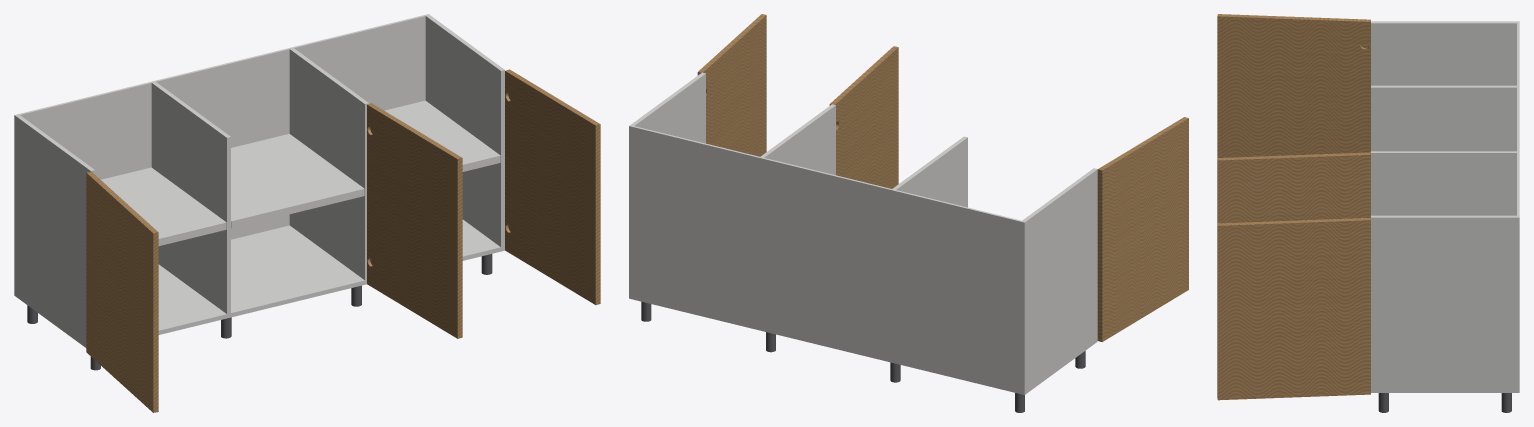
File: w1800_none_default_open.glb
3 views of the same model, side by side, from view 1: azimuth 30°, elevation 25°; view 2: azimuth 150°, elevation 25°; view 3: azimuth 270°, elevation 25° (orthographic). The views are drawn at different scales.
Visible parts, largest first — view 1: white, oak, leg; view 2: white, oak, leg; view 3: oak, white, leg.
Boxes of the visible parts, x1,y1,x2,y2 form: white: (14,14,504,347); oak: (86,69,600,412); leg: (27,254,492,370); white: (629,72,1097,394); oak: (697,14,1188,341); leg: (641,301,1085,412); oak: (1217,14,1370,400); white: (1371,21,1519,392); leg: (1378,393,1511,412).
Size of the model in its own units: 1.94 by 0.85 by 1.17.
Materials: 3 (1 with a texture image).
